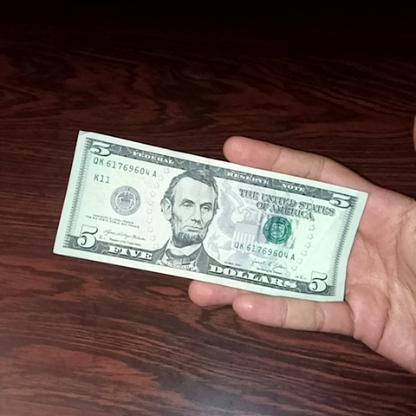five-front: (57, 128, 368, 298)
